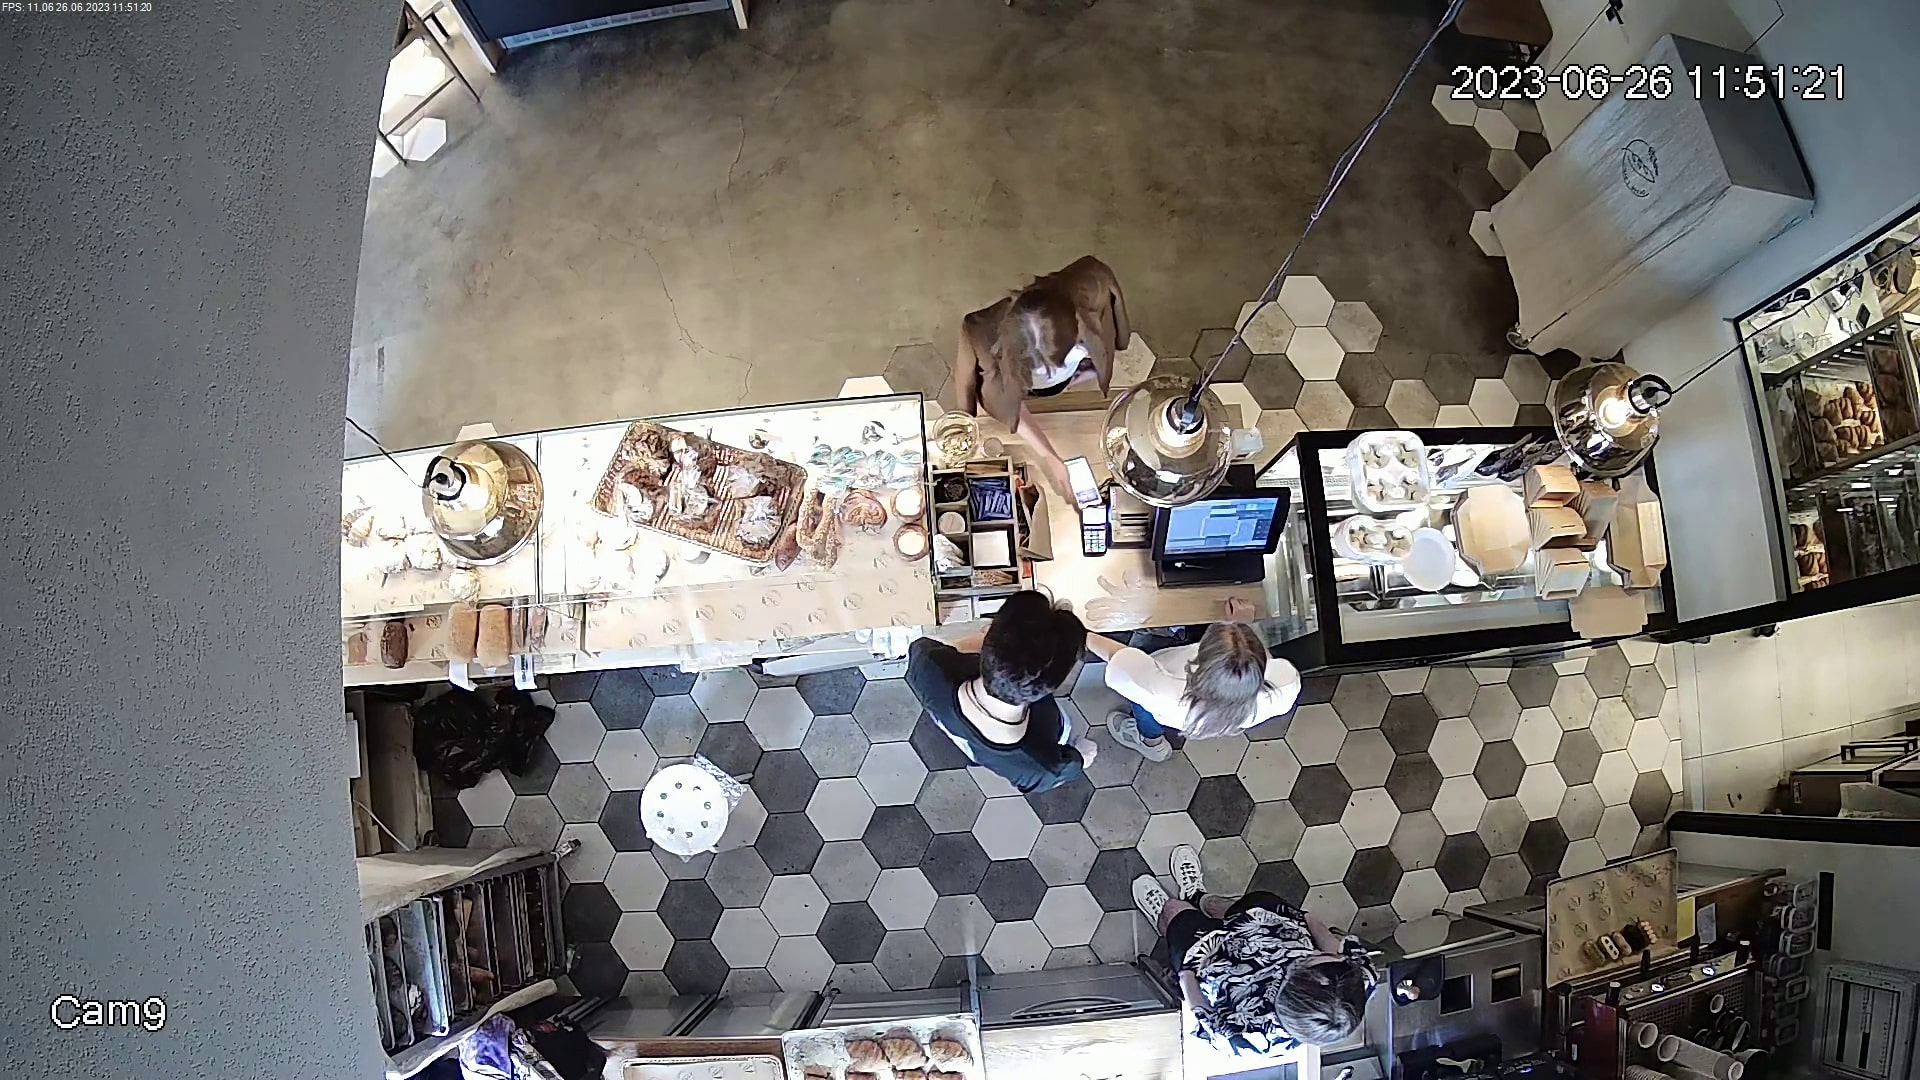barcounter: (357, 419, 1663, 665)
person: (888, 599, 1095, 785), (939, 258, 1151, 418), (1104, 603, 1303, 771)
terminal: (1072, 448, 1111, 556)
